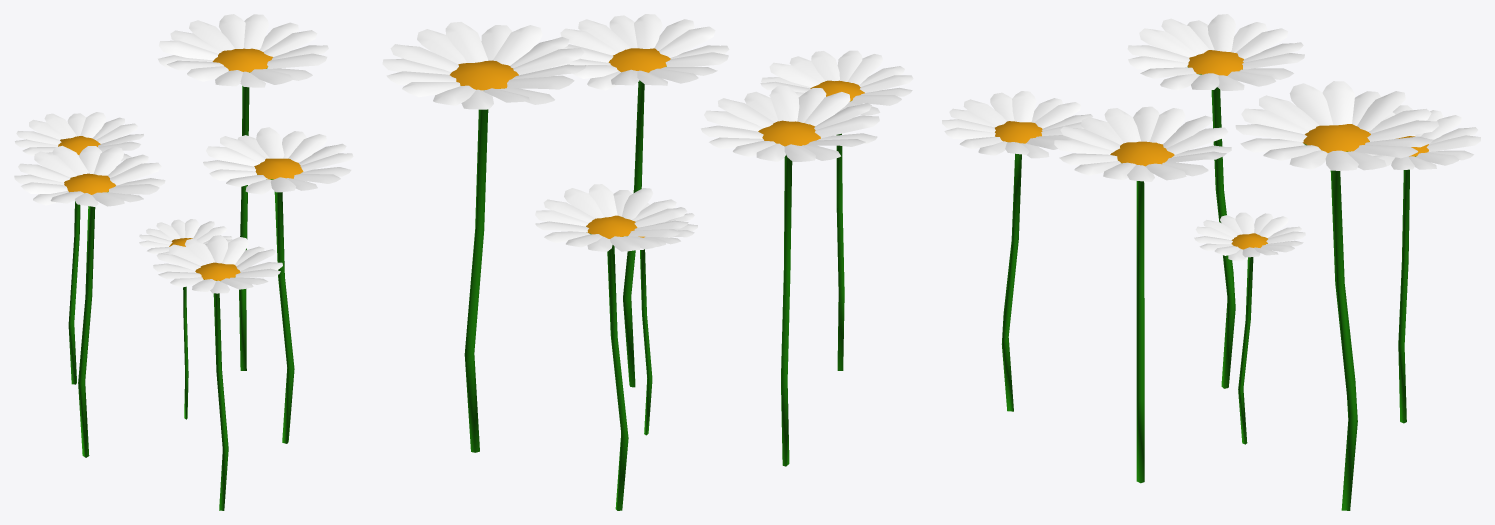
Rendered from SM_Camomile_001.fbx.
The picture shows the model from 3 angles, left to right: view 1: azimuth 30°, elevation 25°; view 2: azimuth 150°, elevation 25°; view 3: azimuth 270°, elevation 25°; orthographic projection. The views are drawn at different scales.
Parts seen in each view (by area): view 1: Plane.018; view 2: Plane.018; view 3: Plane.018.
Part boxes in pixels (left/top/right/bottom): Plane.018: left=14, top=14, right=353, bottom=510; Plane.018: left=382, top=14, right=913, bottom=510; Plane.018: left=942, top=14, right=1480, bottom=510.
Bounding box in the file's own units: 37.48 × 33.89 × 43.1.
